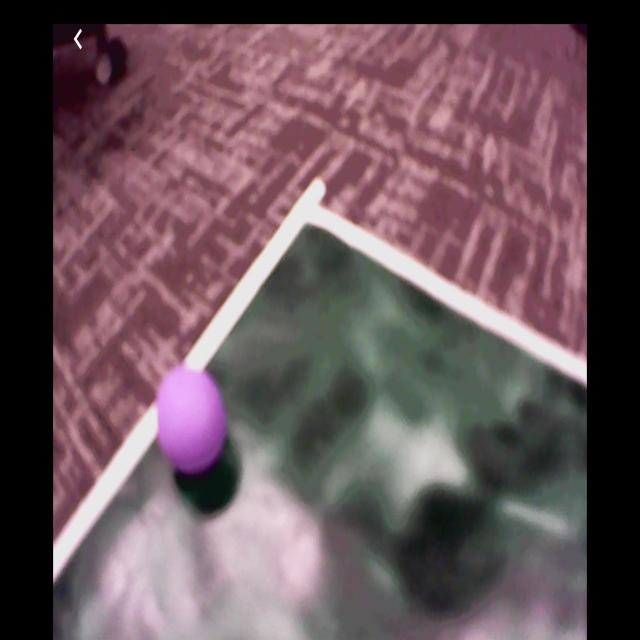ball: (157, 366, 227, 473)
